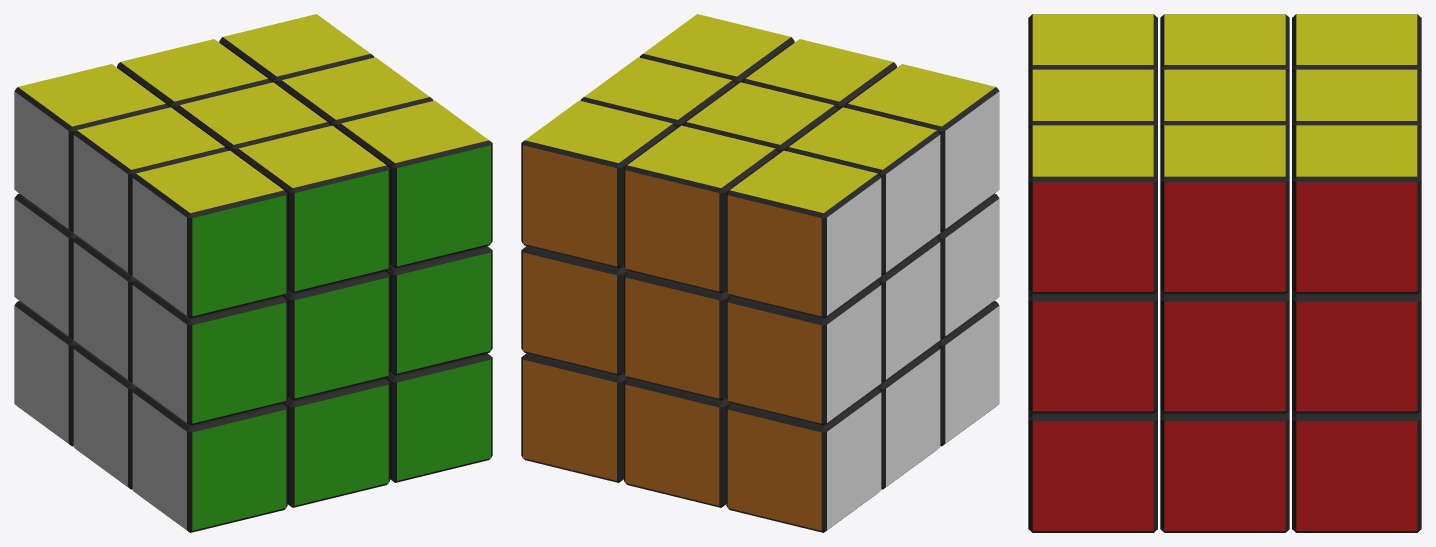
Rendered from Rubix_Wuerfel.fbx.
The picture shows the model from 3 angles, left to right: view 1: azimuth 30°, elevation 25°; view 2: azimuth 150°, elevation 25°; view 3: azimuth 270°, elevation 25°; orthographic projection. The views are drawn at different scales.
Parts seen in each view (by area): view 1: Cube_6, Cube_0, Cube_3, Cube_7, Cube_8, Cube_24, Cube_15, Cube_2, Cube_5, Cube_1, Cube_4, Cube_21 (+7 smaller); view 2: Cube_24, Cube_18, Cube_21, Cube_25, Cube_26, Cube_6, Cube_15, Cube_20, Cube_23, Cube_19, Cube_22, Cube_3 (+7 smaller); view 3: Cube_8, Cube_17, Cube_26, Cube_11, Cube_2, Cube_20, Cube_5, Cube_14, Cube_23, Cube_16, Cube_7, Cube_25 (+3 smaller).
Boxes of the visible parts, x1=… form: Cube_6: x1=132, y1=150, x2=287, y2=318; Cube_0: x1=132, y1=387, x2=287, y2=532; Cube_3: x1=132, y1=280, x2=287, y2=425; Cube_7: x1=235, y1=125, x2=389, y2=293; Cube_8: x1=337, y1=100, x2=492, y2=268; Cube_24: x1=14, y1=64, x2=169, y2=231; Cube_15: x1=73, y1=107, x2=228, y2=275; Cube_2: x1=385, y1=353, x2=492, y2=482; Cube_5: x1=385, y1=246, x2=492, y2=375; Cube_1: x1=283, y1=378, x2=389, y2=507; Cube_4: x1=283, y1=271, x2=389, y2=400; Cube_21: x1=14, y1=193, x2=78, y2=338; Cube_24: x1=726, y1=150, x2=881, y2=318; Cube_18: x1=726, y1=387, x2=881, y2=532; Cube_21: x1=726, y1=280, x2=881, y2=425; Cube_25: x1=624, y1=125, x2=778, y2=293; Cube_26: x1=521, y1=100, x2=676, y2=268; Cube_6: x1=844, y1=64, x2=999, y2=231; Cube_15: x1=785, y1=107, x2=940, y2=275; Cube_20: x1=521, y1=353, x2=628, y2=482; Cube_23: x1=521, y1=246, x2=628, y2=375; Cube_19: x1=624, y1=378, x2=730, y2=507; Cube_22: x1=624, y1=271, x2=730, y2=400; Cube_3: x1=935, y1=193, x2=999, y2=338; Cube_8: x1=1028, y1=125, x2=1157, y2=293; Cube_17: x1=1160, y1=125, x2=1289, y2=293; Cube_26: x1=1292, y1=125, x2=1421, y2=293; Cube_11: x1=1160, y1=410, x2=1289, y2=532; Cube_2: x1=1028, y1=410, x2=1157, y2=532; Cube_20: x1=1292, y1=410, x2=1421, y2=532; Cube_5: x1=1028, y1=290, x2=1157, y2=413; Cube_14: x1=1160, y1=290, x2=1289, y2=413; Cube_23: x1=1292, y1=290, x2=1421, y2=413; Cube_16: x1=1160, y1=69, x2=1289, y2=128; Cube_7: x1=1028, y1=69, x2=1157, y2=128; Cube_25: x1=1292, y1=69, x2=1421, y2=128.
Bounding box in the file's own units: 9.1 × 9.1 × 9.1.
